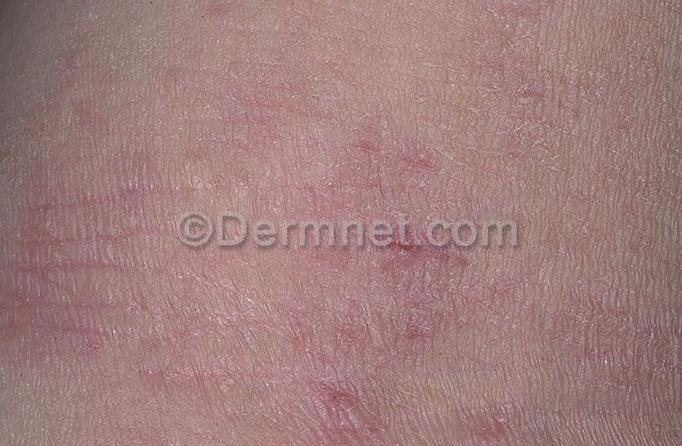eritema 1: (0, 7, 600, 446)
xerosis 1: (0, 0, 682, 446)
